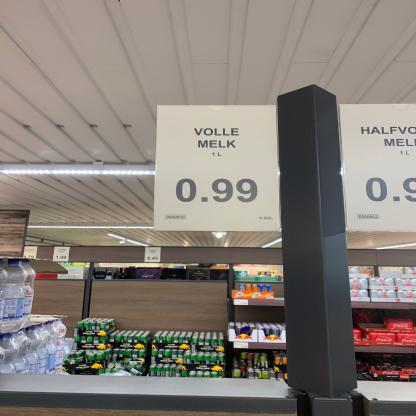prtg: (156, 104, 282, 232), (339, 103, 415, 233), (54, 247, 71, 263), (145, 248, 162, 263)
